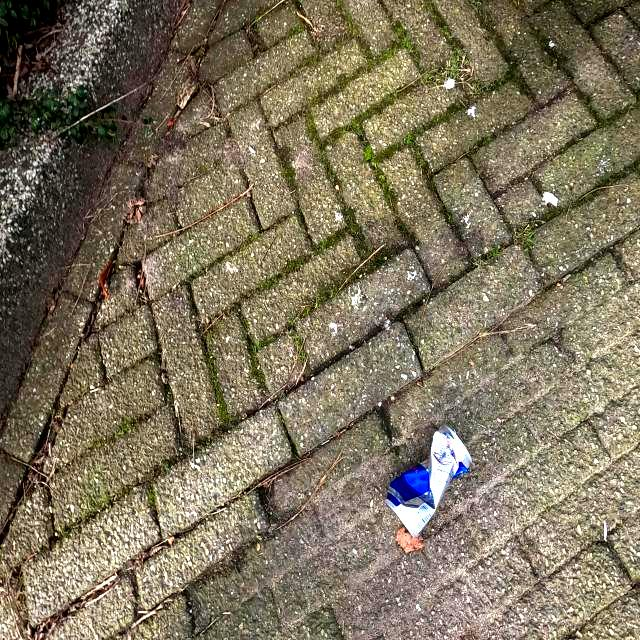Metal: (384, 422, 474, 540)
